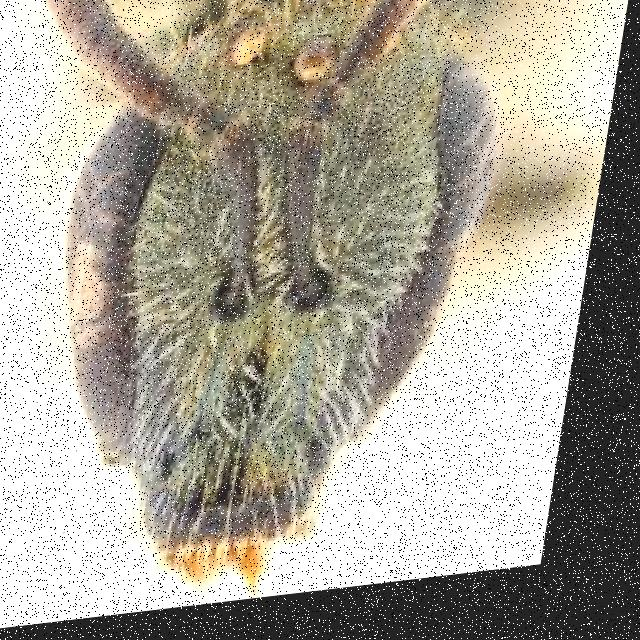Lasioglossum: (0, 0, 538, 625)
